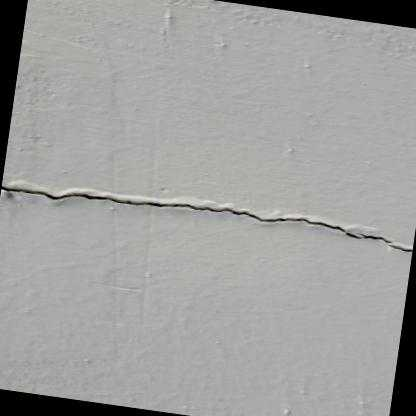crack: (0, 180, 413, 253)
